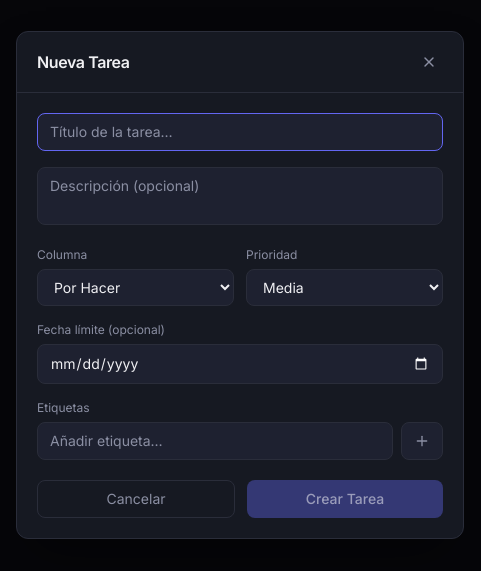
CreateTaskModal — etiquetas › añade una etiqueta al hacer click en el botón +
In the field with placeholder "Añadir etiqueta…": (215,441) [37,422,393,460], type "frontend"
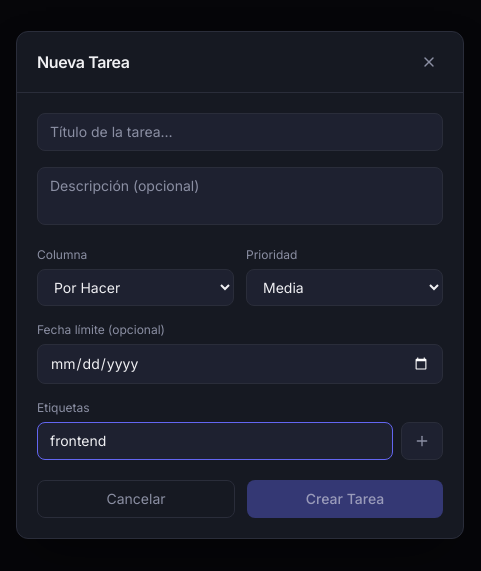
Click the button without text below "Fecha límite (opcional)": (422,441) [401,422,443,460]
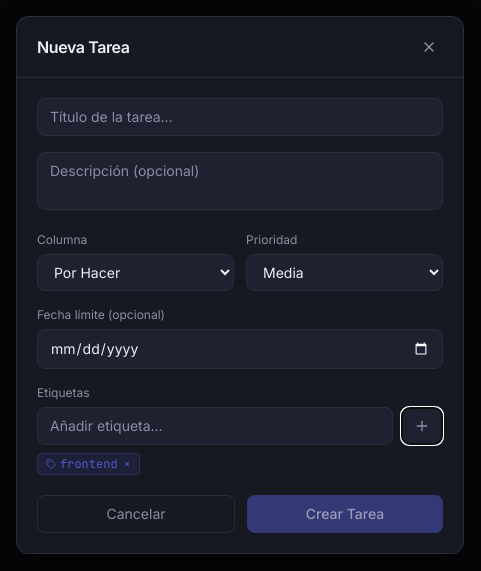
Result: the text "frontend" is shown at [60,456,118,472]
